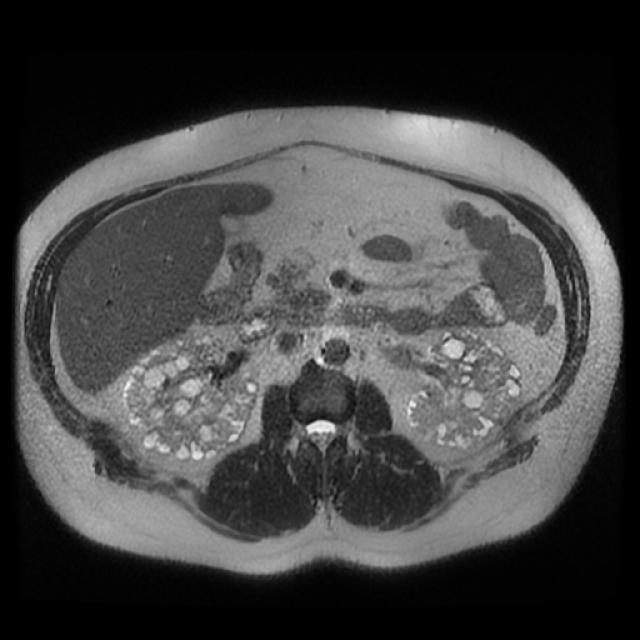sag: (121, 330, 259, 463)
sol: (406, 331, 521, 448)
